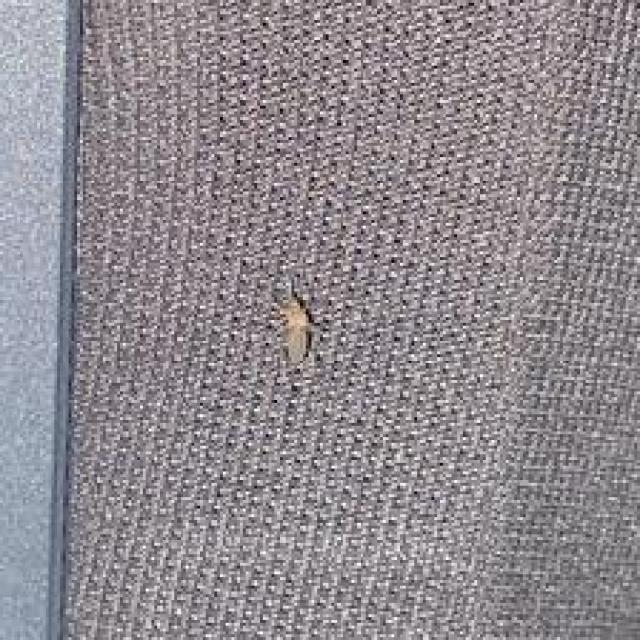Culex: (274, 287, 323, 367)
